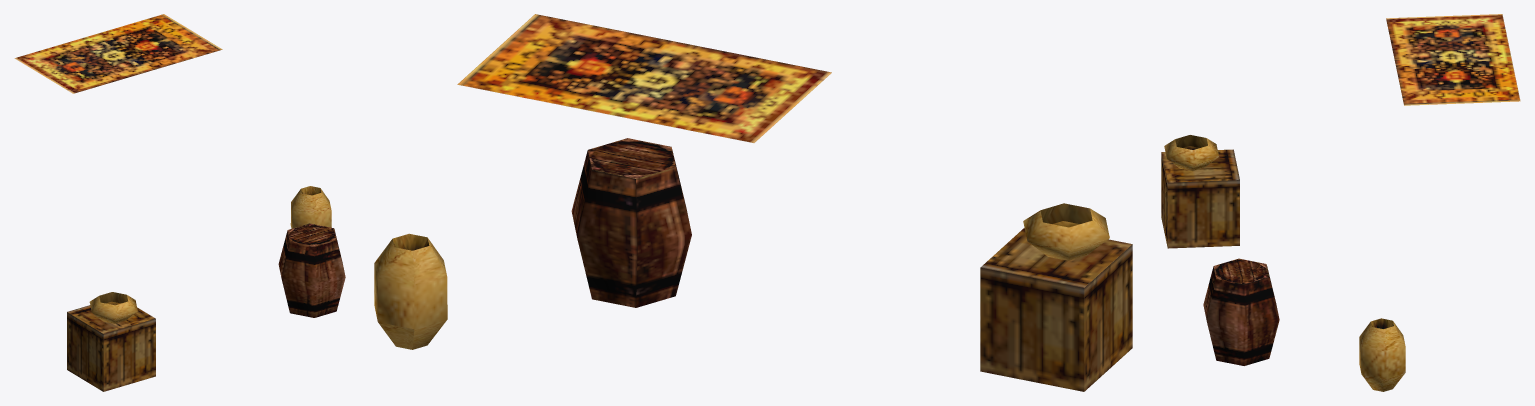
The model's file is pers_house_b_1.dae.
3 renders of one model, left to right at view 1: azimuth 30°, elevation 25°; view 2: azimuth 150°, elevation 25°; view 3: azimuth 270°, elevation 25°, orthographic. The views are drawn at different scales.
Parts seen in each view (by area): view 1: Object27-Pivot; view 2: Object27-Pivot; view 3: Object27-Pivot.
Part boxes in pixels (box(x1,y1,x2,y2)): Object27-Pivot: box(14, 14, 345, 391); Object27-Pivot: box(374, 14, 1132, 391); Object27-Pivot: box(1161, 14, 1520, 391).
Size of the model in its own units: 8.93 by 7.42 by 5.42.
